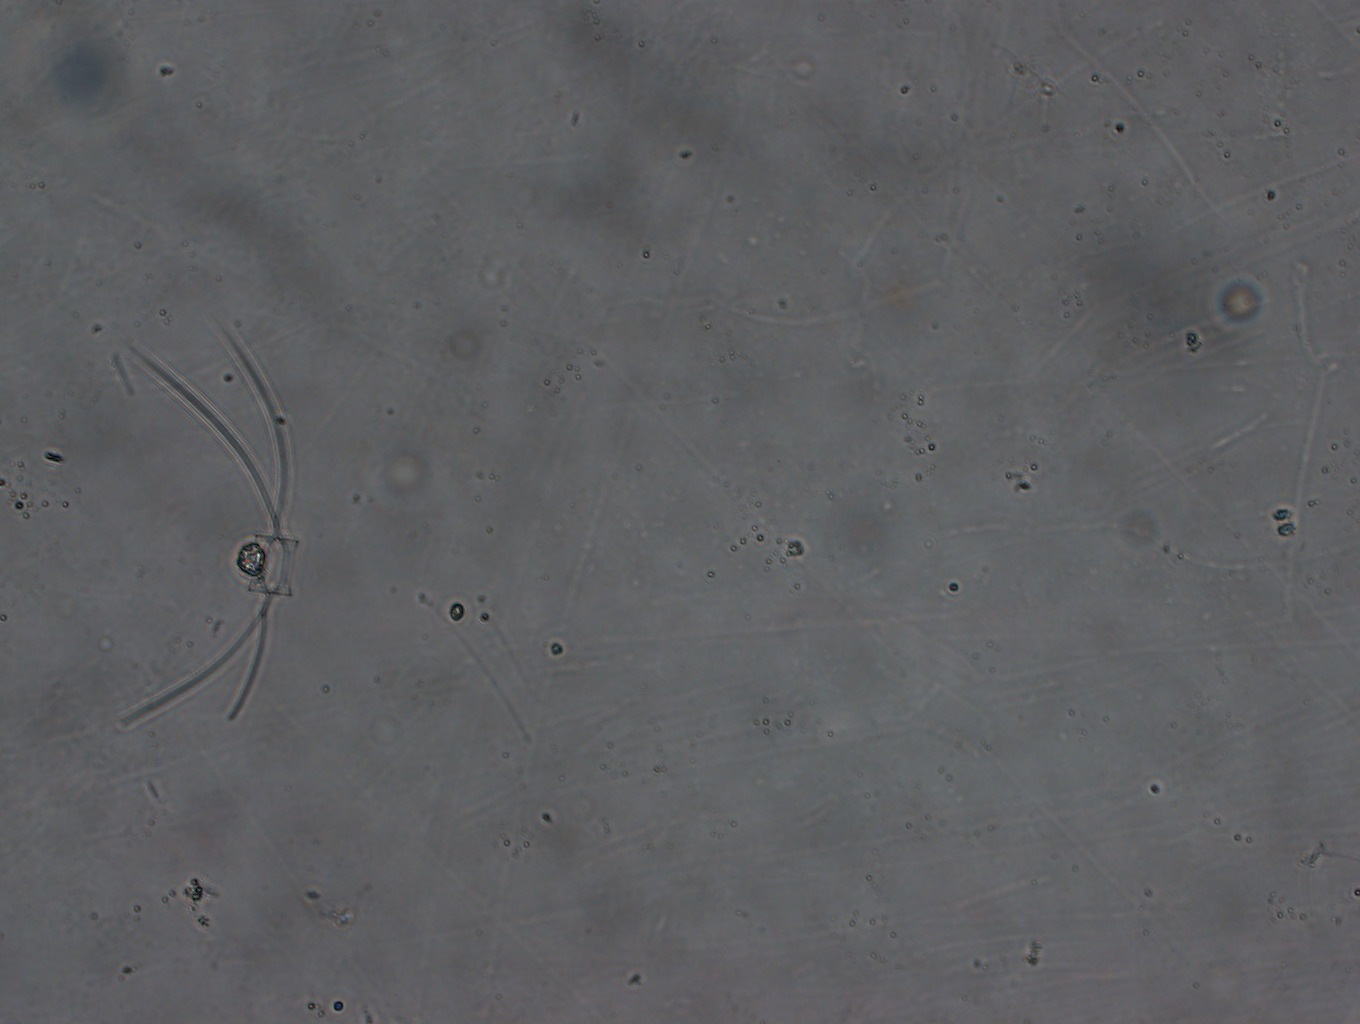chaetoceros: (111, 318, 301, 730)
